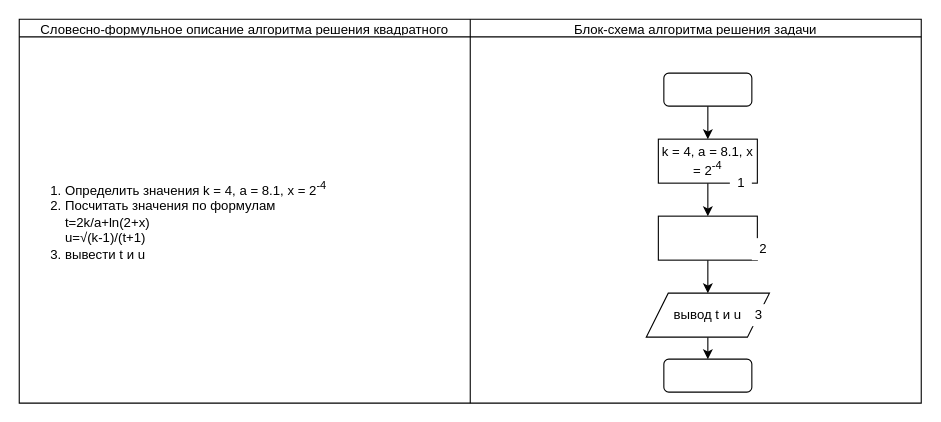
The diagram is 941 pixels wide and 422 high, and some of its shapes have lost their labels. Each missing label, with the centre of its shape:
t=2k/a+ln(2+x) u=√(k-1)/(t+1): [707,237]
конец: [707,375]
начало: [707,89]
